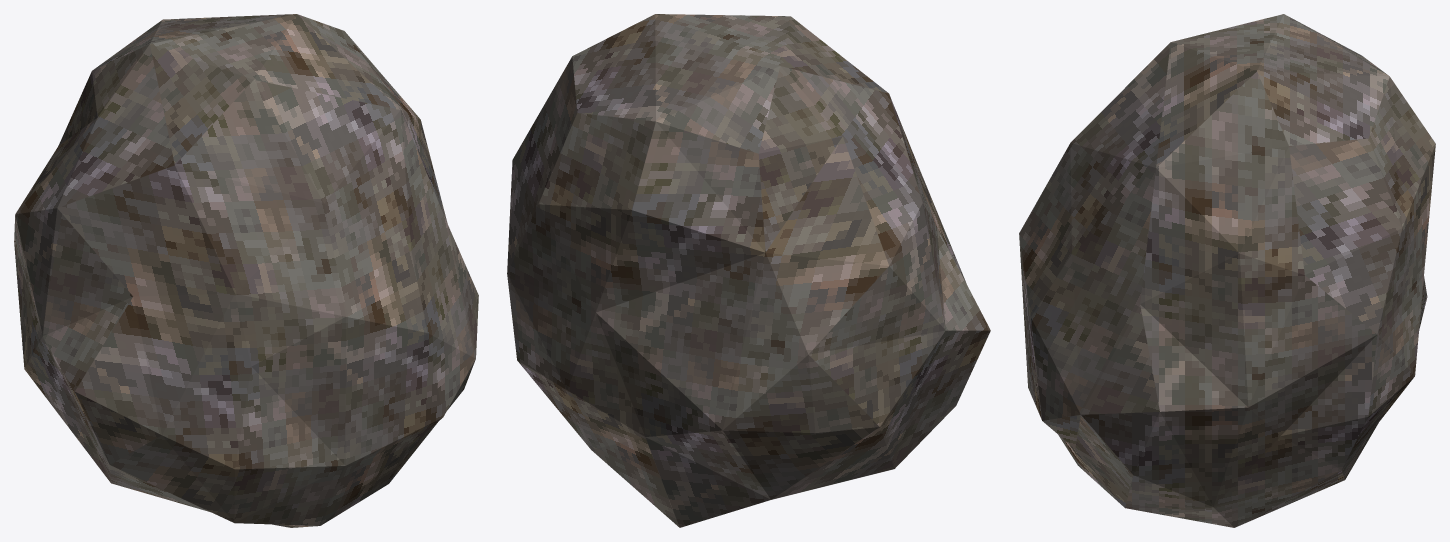
The model's file is Large Rock.obj.
The picture shows the model from 3 angles, left to right: view 1: azimuth 30°, elevation 25°; view 2: azimuth 150°, elevation 25°; view 3: azimuth 270°, elevation 25°; orthographic projection. The views are drawn at different scales.
Visible parts, largest first — view 1: sekikaobj_large; view 2: sekikaobj_large; view 3: sekikaobj_large.
Boxes of the visible parts, x1=… form: sekikaobj_large: x1=14, y1=14, x2=478, y2=527; sekikaobj_large: x1=507, y1=14, x2=990, y2=527; sekikaobj_large: x1=1019, y1=14, x2=1435, y2=527.
Size of the model in its own units: 20.92 by 22.89 by 18.75.
